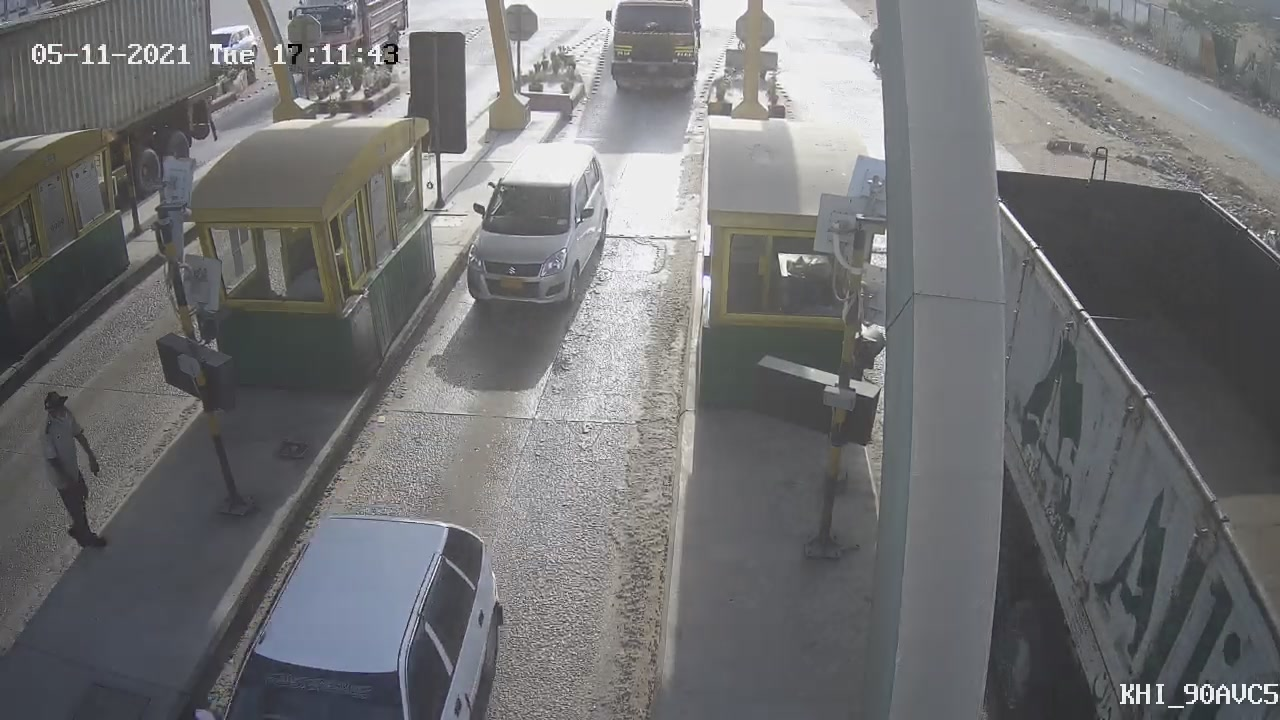F1: (440, 125, 627, 329)
